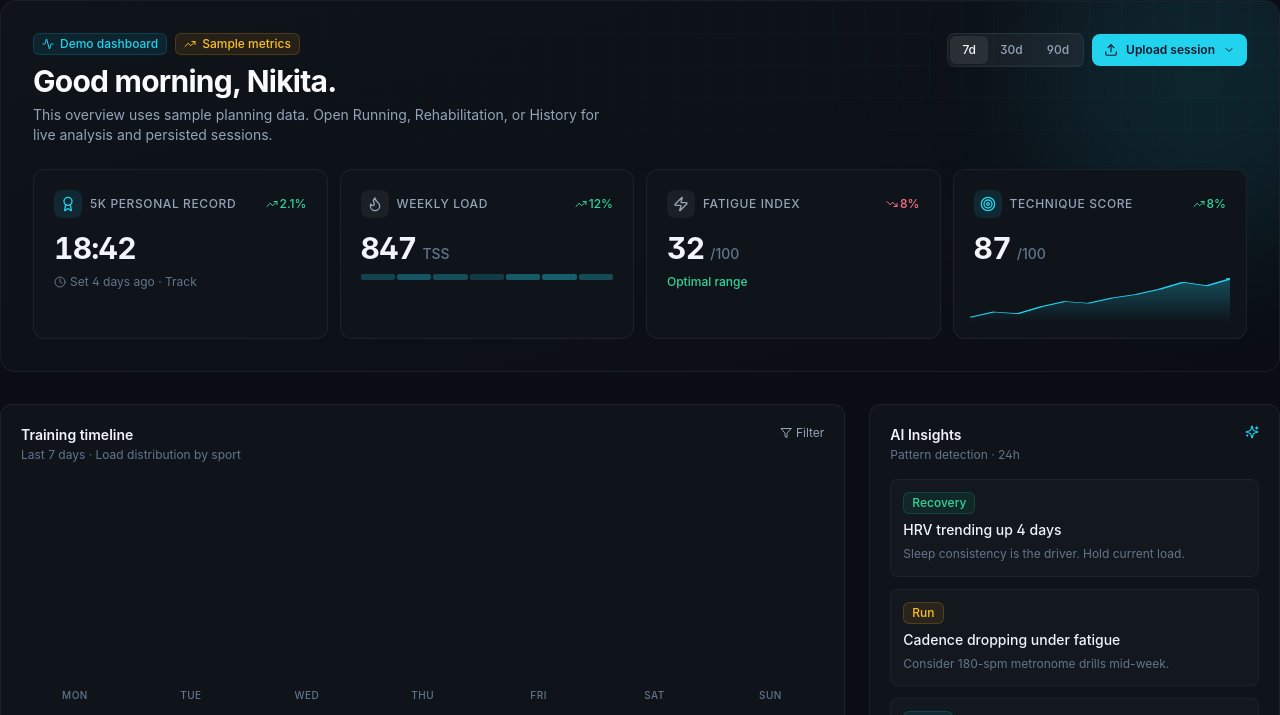
Test: DashboardView › opens real analysis workflows from the upload action
Step 1. Click the button "Upload session" → click(1170, 50), box [1092,34,1247,66]
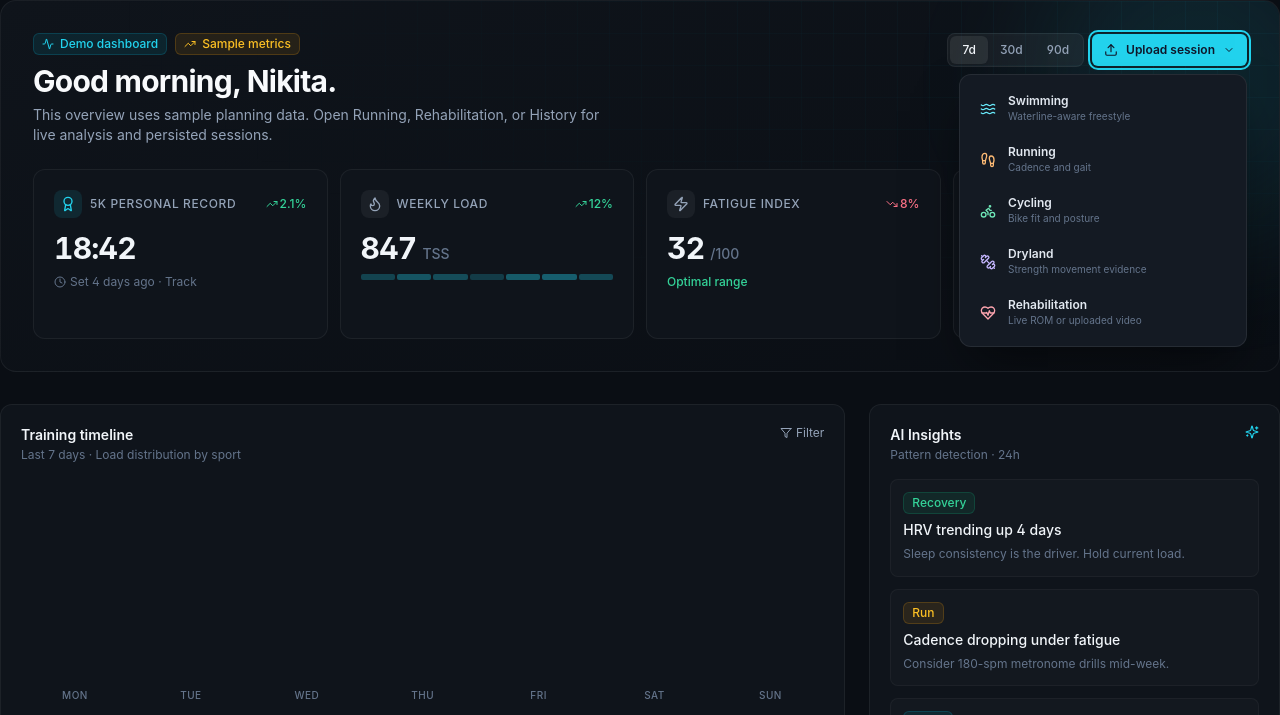
expect the menu named "Choose analysis workflow" is shown: met, box [959,74,1247,347]
